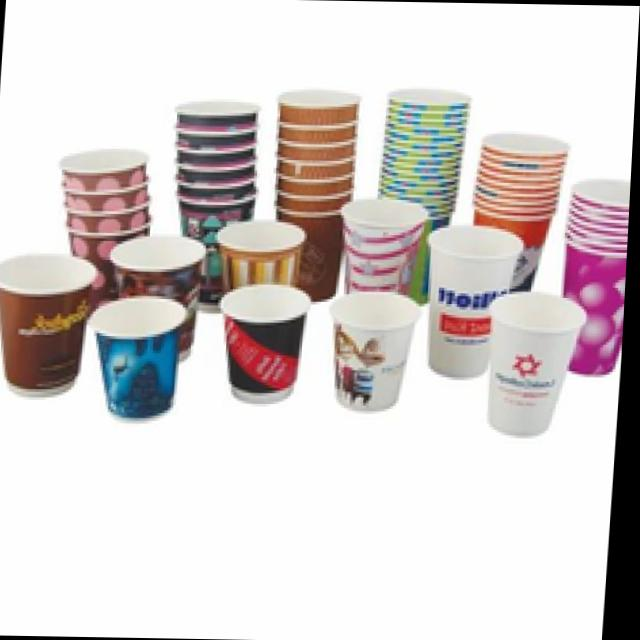paper_cups: (265, 88, 361, 305), (483, 292, 588, 439), (424, 228, 520, 381), (562, 175, 633, 374), (0, 254, 97, 396), (89, 296, 195, 422), (119, 231, 213, 351), (321, 290, 425, 397), (221, 285, 313, 405), (335, 192, 430, 293), (212, 219, 309, 300)
